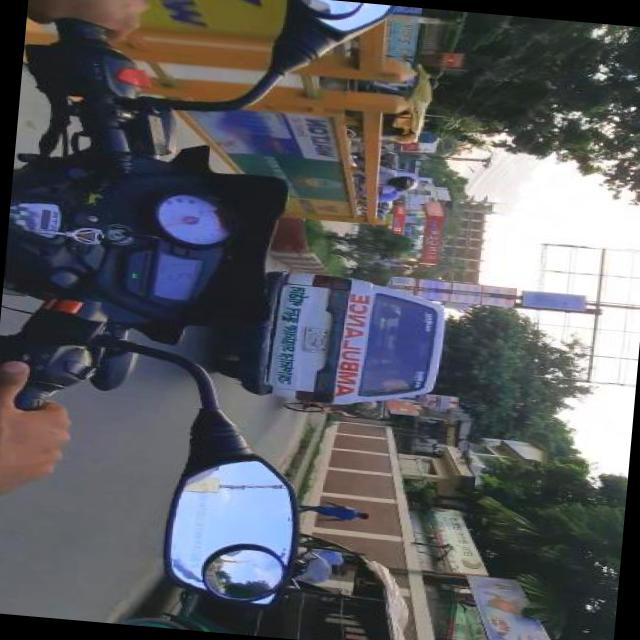motorcycle: (0, 0, 342, 609), (131, 514, 418, 640), (283, 403, 389, 425)
truck: (224, 266, 450, 414)
